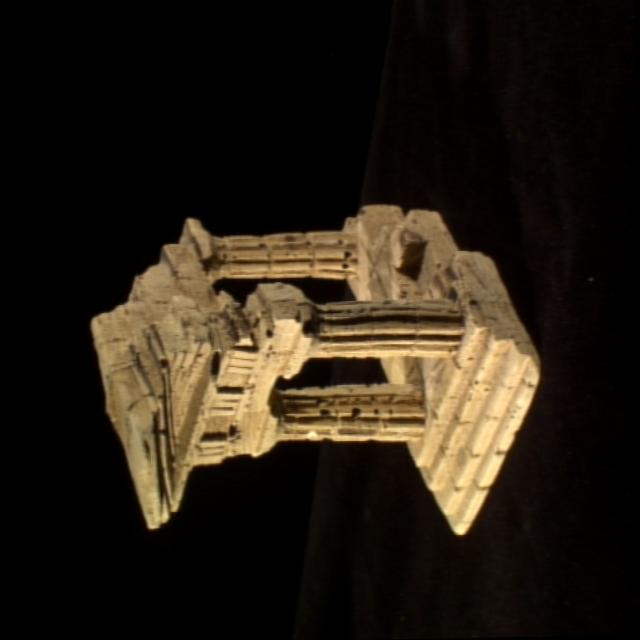Instance-Segmentation: (91, 206, 538, 534)
